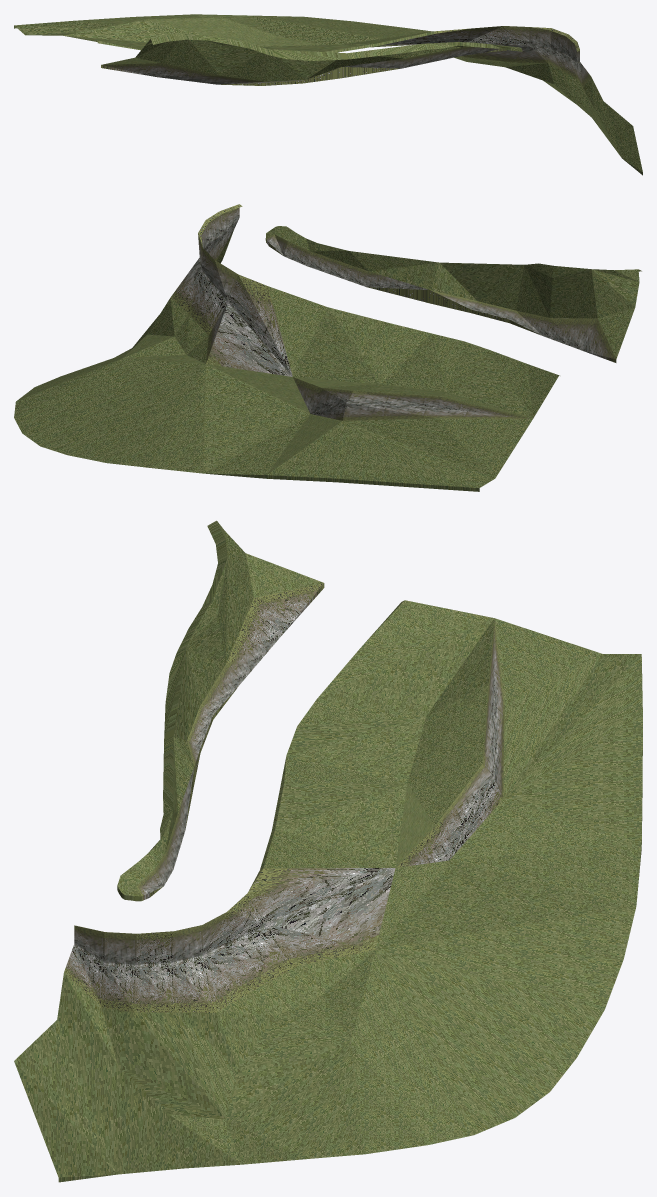
The model's file is lod_sfshill09.obj.
3 renders of one model, top to bottom at view 1: azimuth 30°, elevation 25°; view 2: azimuth 150°, elevation 25°; view 3: azimuth 270°, elevation 25°, orthographic. The views are drawn at different scales.
Parts seen in each view (by area): view 1: lod_sfshill09; view 2: lod_sfshill09; view 3: lod_sfshill09.
Part boxes in pixels (x1,y1,x2,y2): lod_sfshill09: [14, 14, 642, 175]; lod_sfshill09: [14, 204, 641, 491]; lod_sfshill09: [14, 520, 642, 1182].
Size of the model in its own units: 192 by 79.43 by 139.
2 materials, 2 textured.
